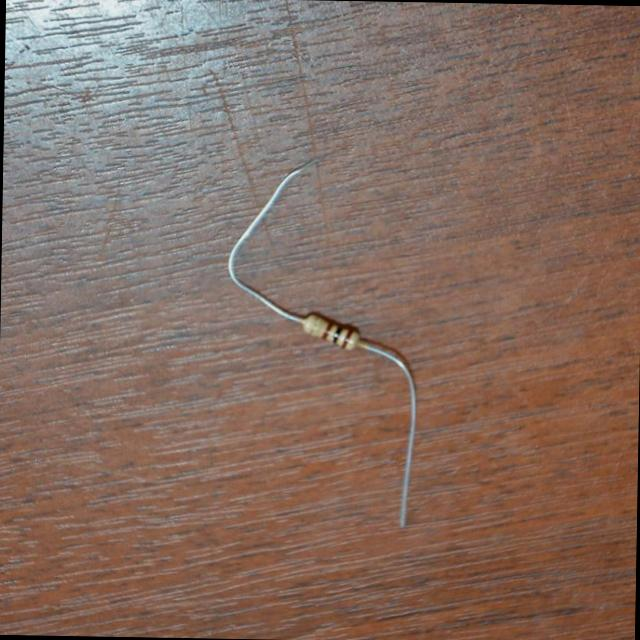Resistor: (300, 314, 366, 349)
black: (333, 326, 343, 344)
brown: (343, 327, 355, 347), (321, 321, 333, 339)
gold: (309, 314, 320, 333)
